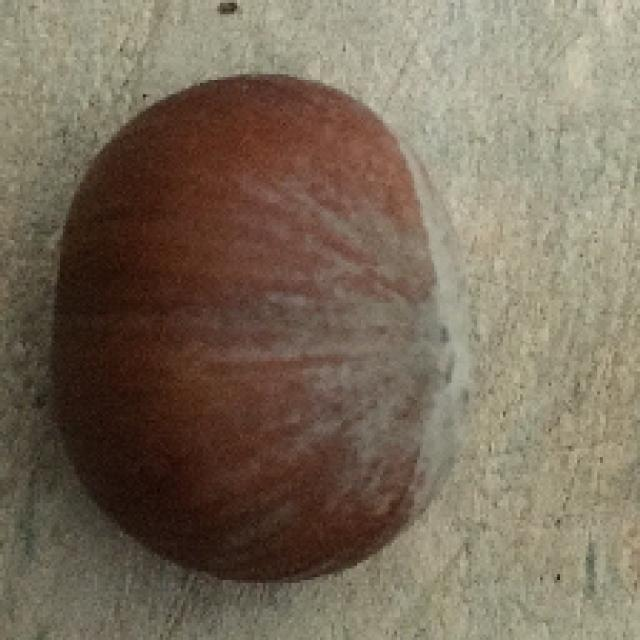qualityHazelnut: (51, 75, 463, 589)
